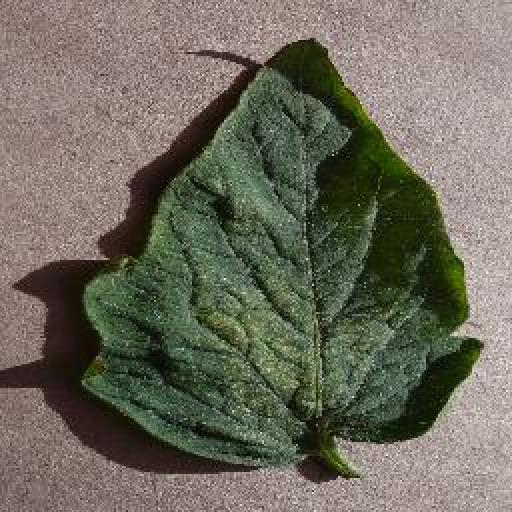disease_tomato: (79, 34, 485, 470)
